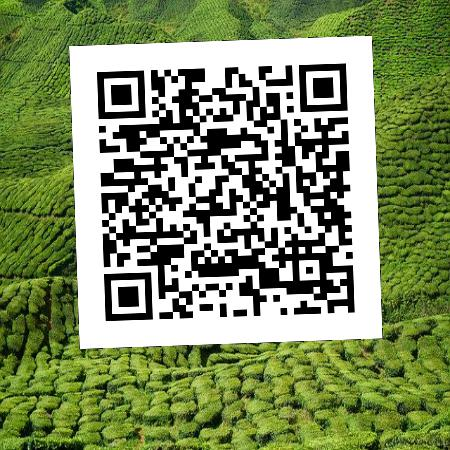qr_code: (69, 35, 382, 348)
